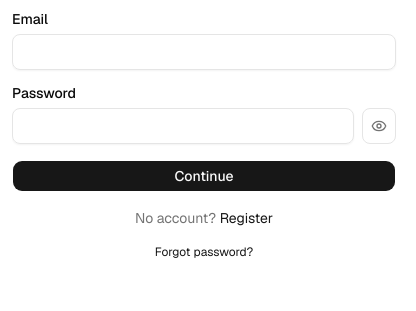
it: LoginForm › shows error on invalid credentials
This screenshot has width=416, height=311.
Type "a@b.com" into the field labelled "Email" at (204, 52), box [12,34,396,70]
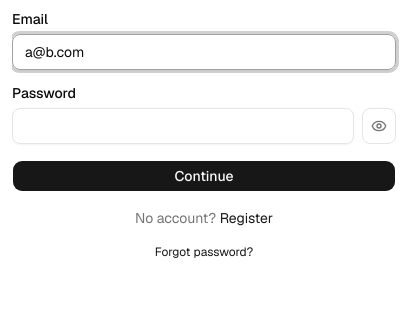
Type "badpass12" into the password field labelled "Password" at (183, 126), box [12,108,354,144]
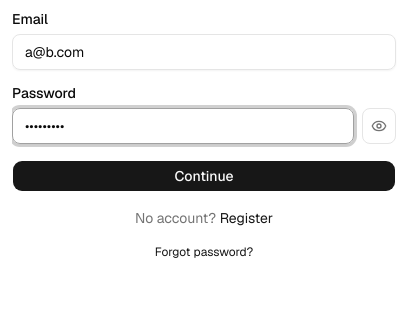
Click the button "Continue" at (204, 176), box [12,160,396,192]
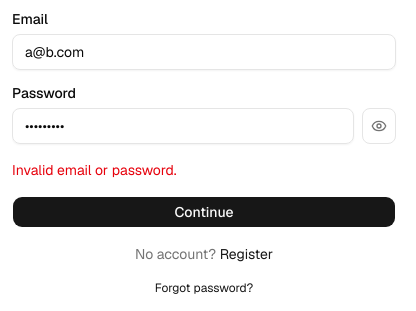
Expected: the message "Invalid email or password." is shown, [12,161,177,179]
